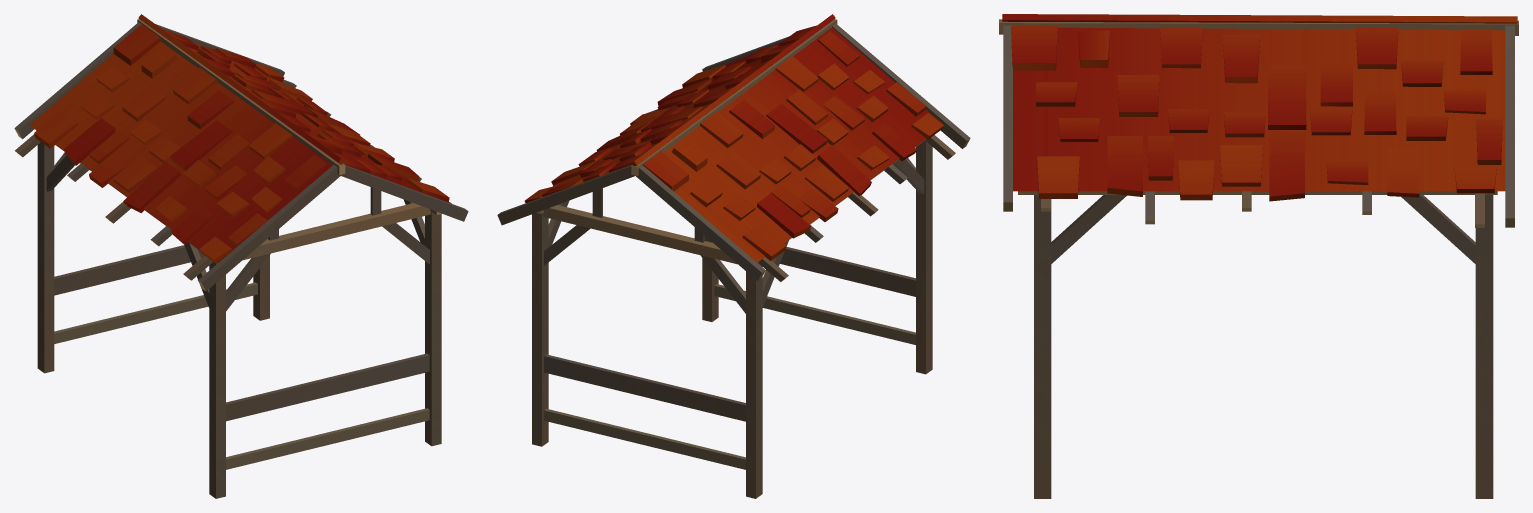
File: Shed_2.fbx
The picture shows the model from 3 angles, left to right: view 1: azimuth 30°, elevation 25°; view 2: azimuth 150°, elevation 25°; view 3: azimuth 270°, elevation 25°; orthographic projection. The views are drawn at different scales.
Visible parts, largest first — view 1: polySurface9856; view 2: polySurface9856; view 3: polySurface9856.
Boxes of the visible parts, box(x1,y1,x2,y2) form: polySurface9856: box(14, 14, 468, 498); polySurface9856: box(497, 14, 970, 498); polySurface9856: box(999, 14, 1518, 498).
Bounding box in the file's own units: 477 × 527 × 599.
